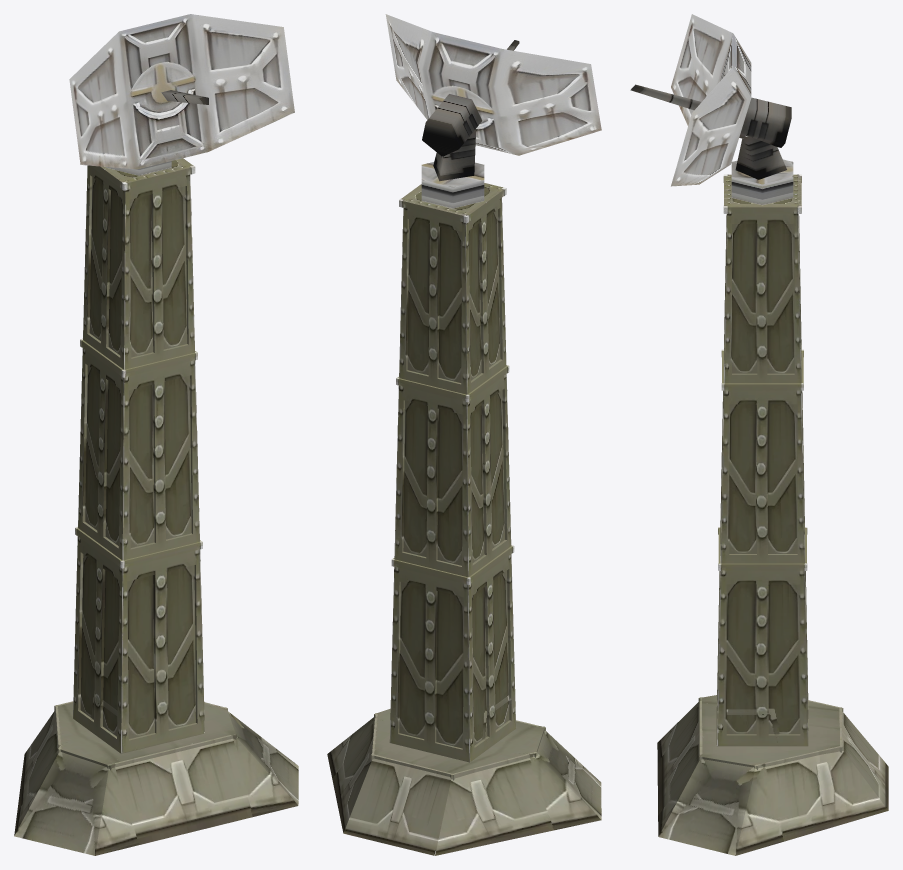
Rendered from sensortower_cad.glb.
3 views of the same model, side by side, from view 1: azimuth 30°, elevation 25°; view 2: azimuth 150°, elevation 25°; view 3: azimuth 270°, elevation 25° (orthographic). The views are drawn at different scales.
Visible parts, largest first — view 1: SensorTower, Sensordish; view 2: SensorTower, Sensordish, Sensorpivot; view 3: SensorTower, Sensordish, Sensorpivot.
Boxes of the visible parts, <box> form: SensorTower: <box>14,158,298,855</box>; Sensordish: <box>69,14,294,169</box>; SensorTower: <box>327,183,601,855</box>; Sensordish: <box>385,14,601,156</box>; Sensorpivot: <box>421,128,484,208</box>; SensorTower: <box>657,174,888,855</box>; Sensordish: <box>630,14,791,186</box>; Sensorpivot: <box>731,135,793,205</box>.
Bounding box in the file's own units: 7.16 × 18.68 × 5.92.
Materials: 2 (2 with a texture image).
